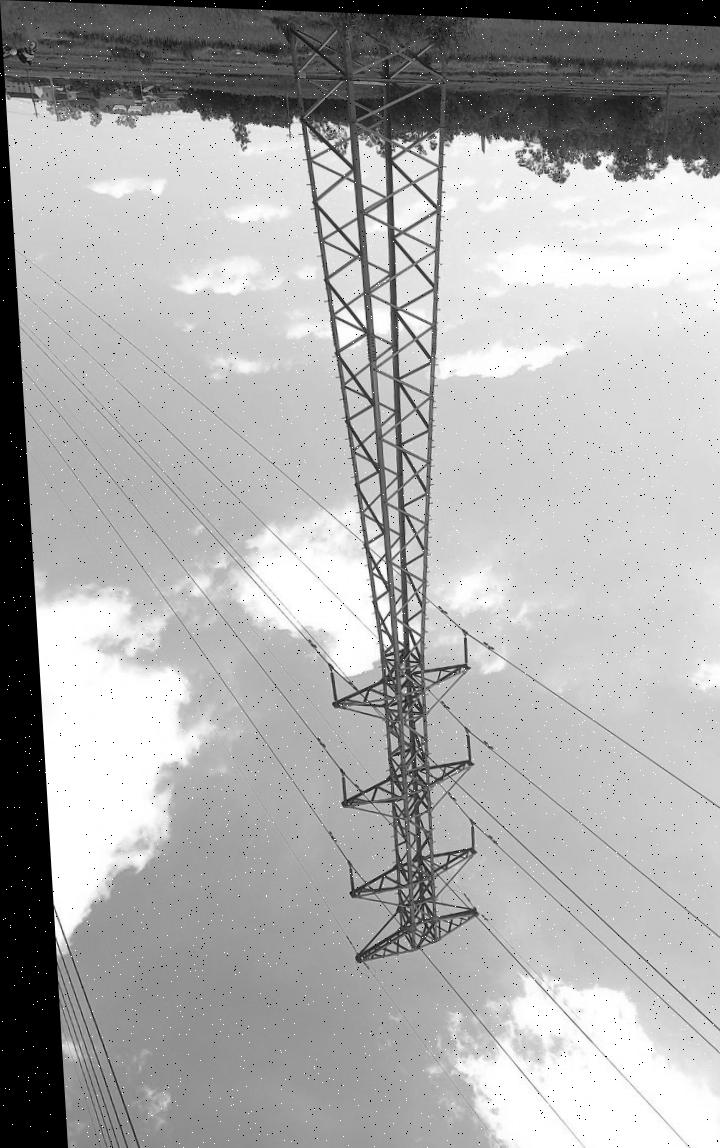tower: (285, 11, 506, 969)
